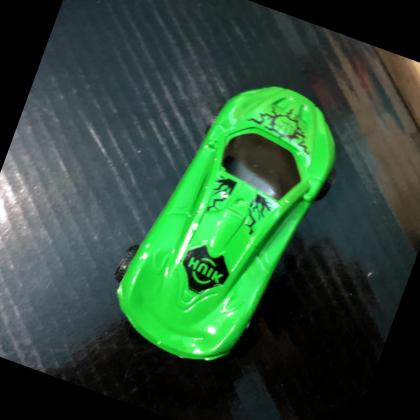Car: (94, 53, 362, 392)
